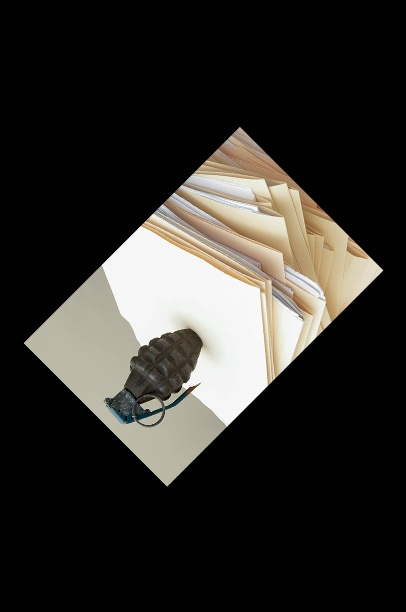e1: (100, 325, 206, 428)
